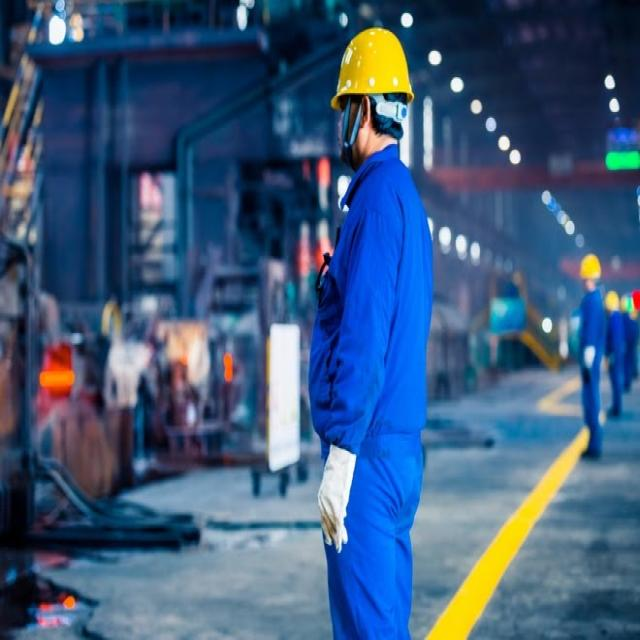vest: (313, 155, 431, 640)
